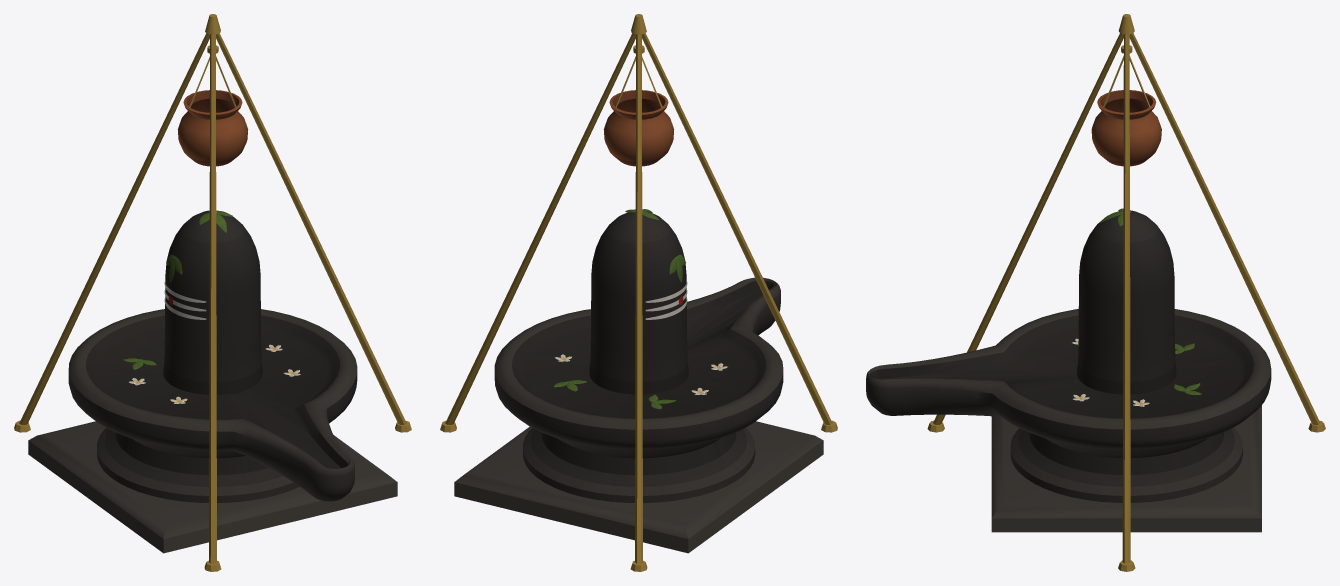
The model's file is linga.glb.
3 views of the same model, side by side, from view 1: azimuth 30°, elevation 25°; view 2: azimuth 150°, elevation 25°; view 3: azimuth 270°, elevation 25° (orthographic).
Visible parts, largest first — view 1: linga; view 2: linga; view 3: linga.
Part boxes in pixels (x1,y1,x2,y2): linga: (14,14,411,571); linga: (440,14,837,571); linga: (866,14,1325,571).
Size of the model in its own units: 1.19 by 1.62 by 1.46.
